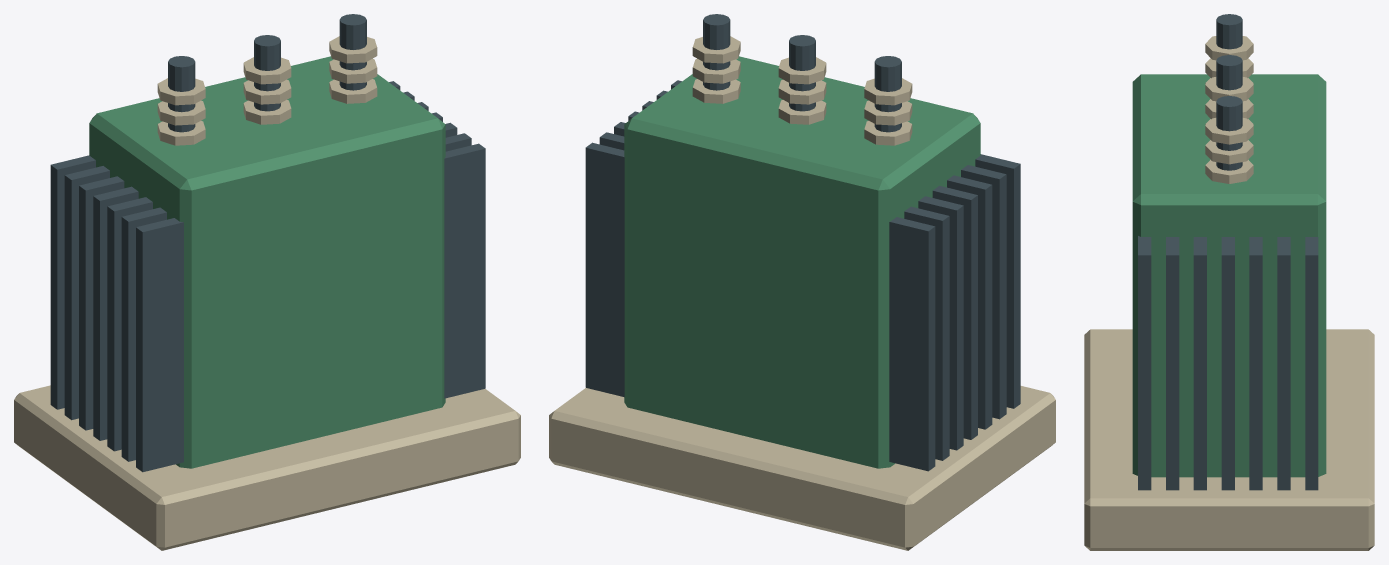
The model's file is transformer.glb.
3 views of the same model, side by side, from view 1: azimuth 30°, elevation 25°; view 2: azimuth 150°, elevation 25°; view 3: azimuth 270°, elevation 25° (orthographic). The views are drawn at different scales.
Parts seen in each view (by area): view 1: transformer; view 2: transformer; view 3: transformer.
Part boxes in pixels (x1,y1,x2,y2): transformer: (14,14,520,550); transformer: (549,14,1055,550); transformer: (1084,14,1374,550).
Bounding box in the file's own units: 1.7 × 1.85 × 1.2.
